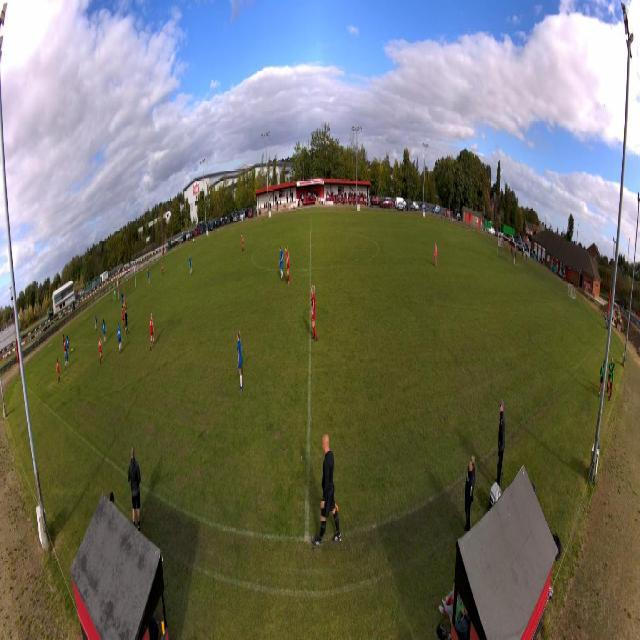ball: (72, 347, 73, 352)
player: (236, 328, 244, 394), (310, 285, 318, 344), (285, 246, 291, 286), (149, 312, 155, 350), (116, 323, 123, 355), (278, 246, 284, 282), (56, 356, 62, 385), (124, 307, 129, 337), (98, 335, 103, 365), (65, 347, 70, 371), (433, 242, 437, 269), (121, 304, 125, 330), (102, 318, 106, 343), (123, 295, 128, 313), (241, 233, 245, 255), (66, 335, 70, 357), (188, 254, 192, 275), (63, 339, 67, 360), (94, 312, 98, 332), (113, 287, 117, 307), (120, 290, 124, 308), (161, 259, 164, 278), (147, 268, 150, 286)
